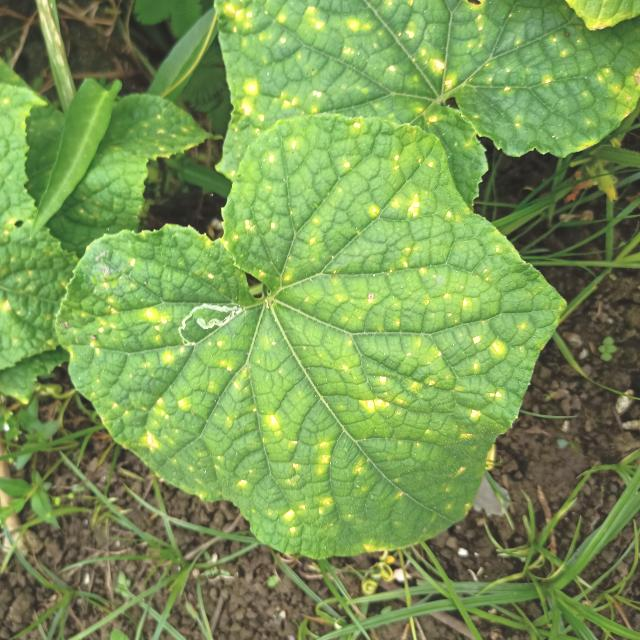disease_cucumber: (100, 132, 530, 565), (214, 4, 586, 152)
